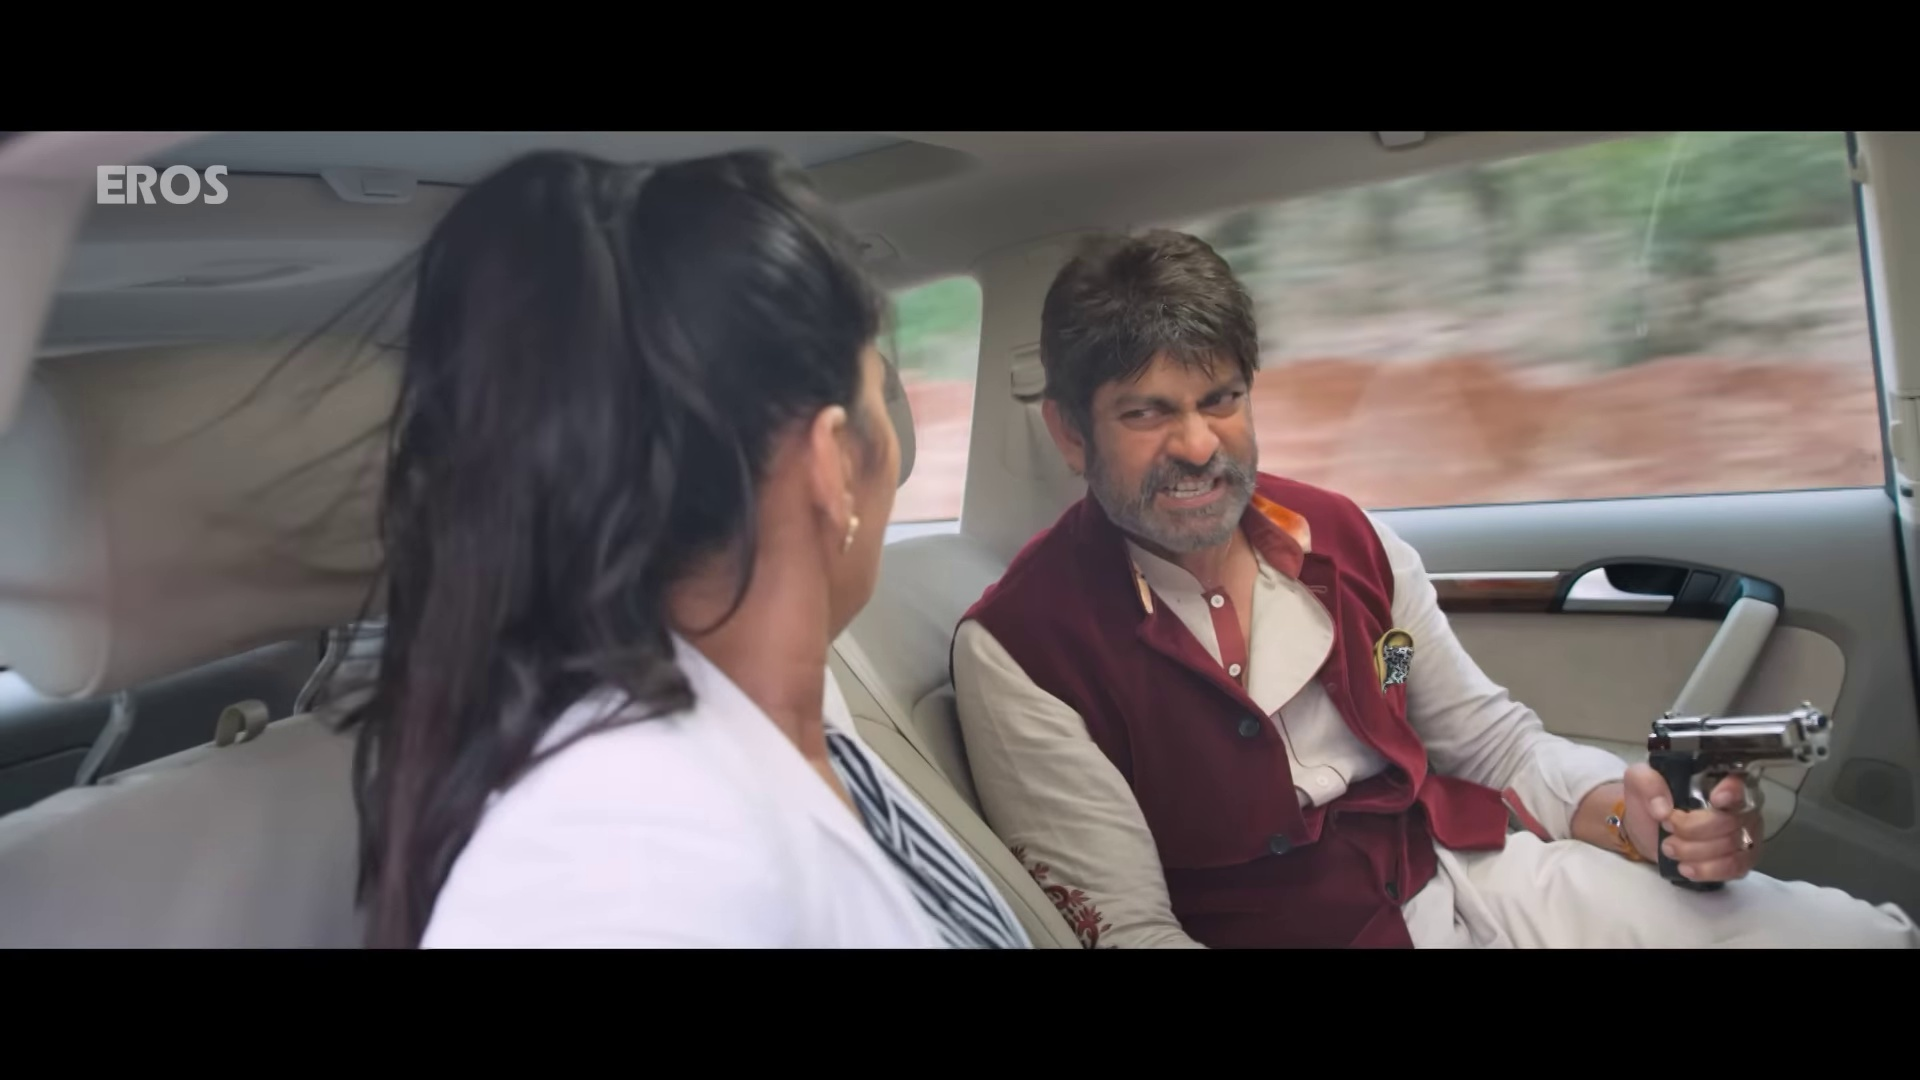gun: (1638, 695, 1840, 902)
p_w_gun: (944, 224, 1920, 949)
p_wo_gun_not_carrying_normal_pose: (353, 141, 1063, 944)
